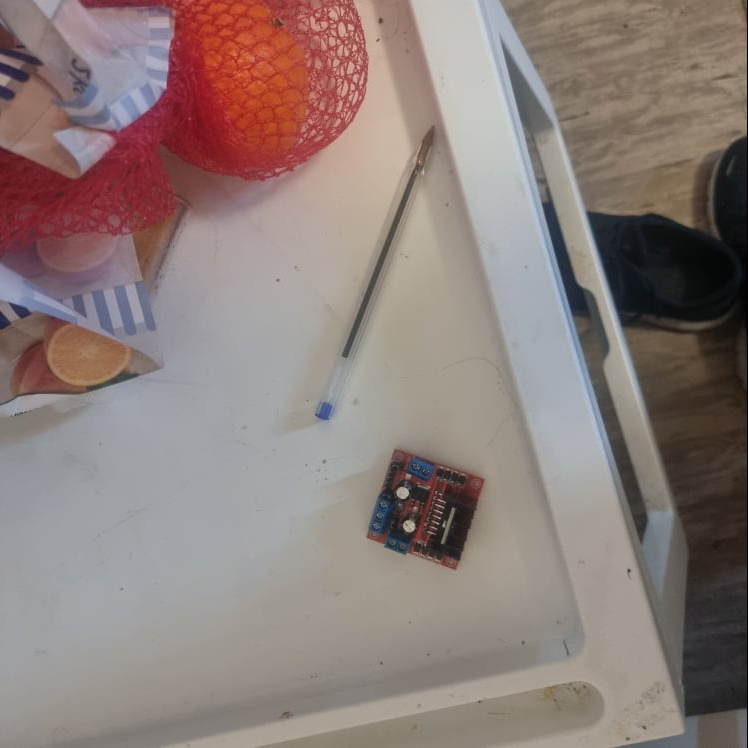MOTOR: (365, 447, 488, 576)
